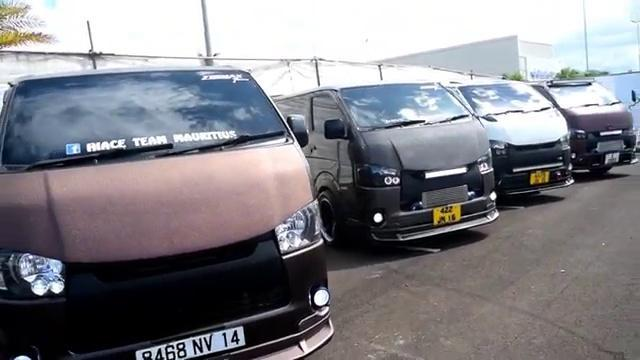van: (0, 71, 349, 360), (282, 81, 498, 267), (459, 73, 579, 203), (531, 66, 640, 179)
